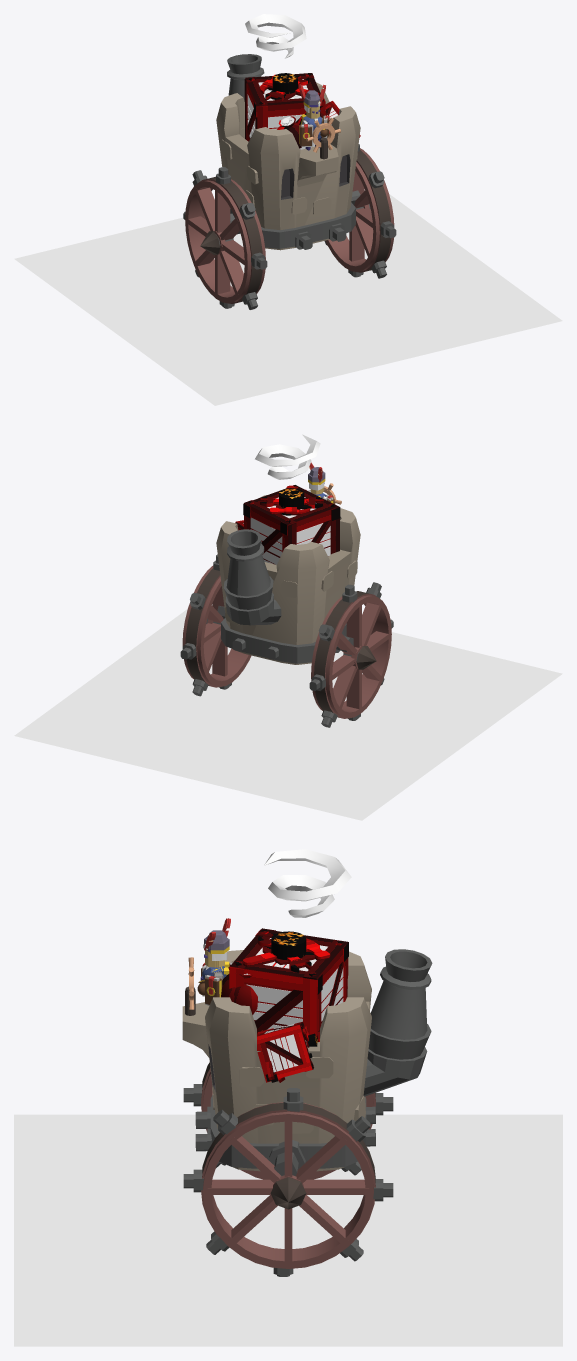
The model's file is Mob_SupportHp.glb.
3 renders of one model, top to bottom at view 1: azimuth 30°, elevation 25°; view 2: azimuth 150°, elevation 25°; view 3: azimuth 270°, elevation 25°, orthographic. The views are drawn at different scales.
Visible parts, largest first — view 1: VFX_Slow, Cube.638, Rad.044, Rad.044 (1), Cube.029, Wanderburg_Models_tf_Stun_001; view 2: VFX_Slow, Cube.638, Rad.044, Rad.044 (1), Cube.029, Wanderburg_Models_tf_Stun_001, Cube.026; view 3: VFX_Slow, Cube.638, Rad.044 (1), Cube.029 (×2), Wanderburg_Models_tf_Stun_001, Rad.044, Cube.026, Cylinder.
Boxes of the visible parts, x1,y1,x2,y2 form: VFX_Slow: [14, 189, 562, 405]; Cube.638: [216, 54, 360, 250]; Rad.044: [183, 167, 267, 309]; Rad.044 (1): [324, 144, 396, 278]; Cube.029: [244, 73, 325, 149]; Wanderburg_Models_tf_Stun_001: [245, 14, 306, 58]; VFX_Slow: [14, 604, 562, 820]; Cube.638: [216, 483, 360, 664]; Rad.044: [309, 582, 393, 727]; Rad.044 (1): [180, 554, 251, 696]; Cube.029: [243, 485, 340, 564]; Wanderburg_Models_tf_Stun_001: [255, 434, 320, 479]; Cube.026: [260, 485, 323, 515]; VFX_Slow: [14, 1114, 562, 1346]; Cube.638: [182, 949, 432, 1176]; Rad.044 (1): [183, 1088, 393, 1276]; Cube.029 (×2): [229, 928, 348, 1082]; Wanderburg_Models_tf_Stun_001: [264, 849, 351, 917]; Rad.044: [183, 1062, 393, 1179]; Cube.026: [243, 933, 330, 972]; Cylinder: [271, 931, 306, 959].
Bounding box in the file's own units: 25.03 × 18.58 × 25.03.
17 materials, 12 textured.
